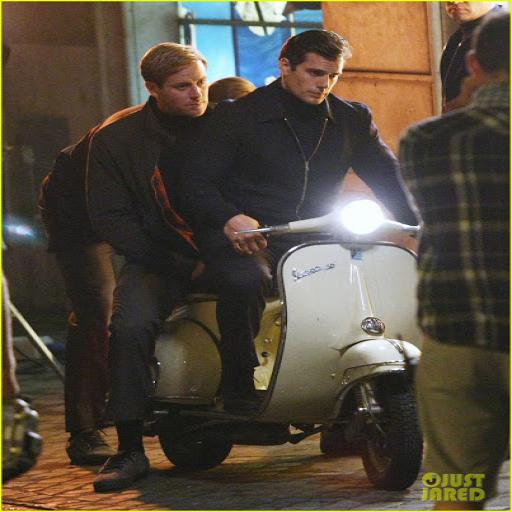overloading: (131, 196, 428, 491)
